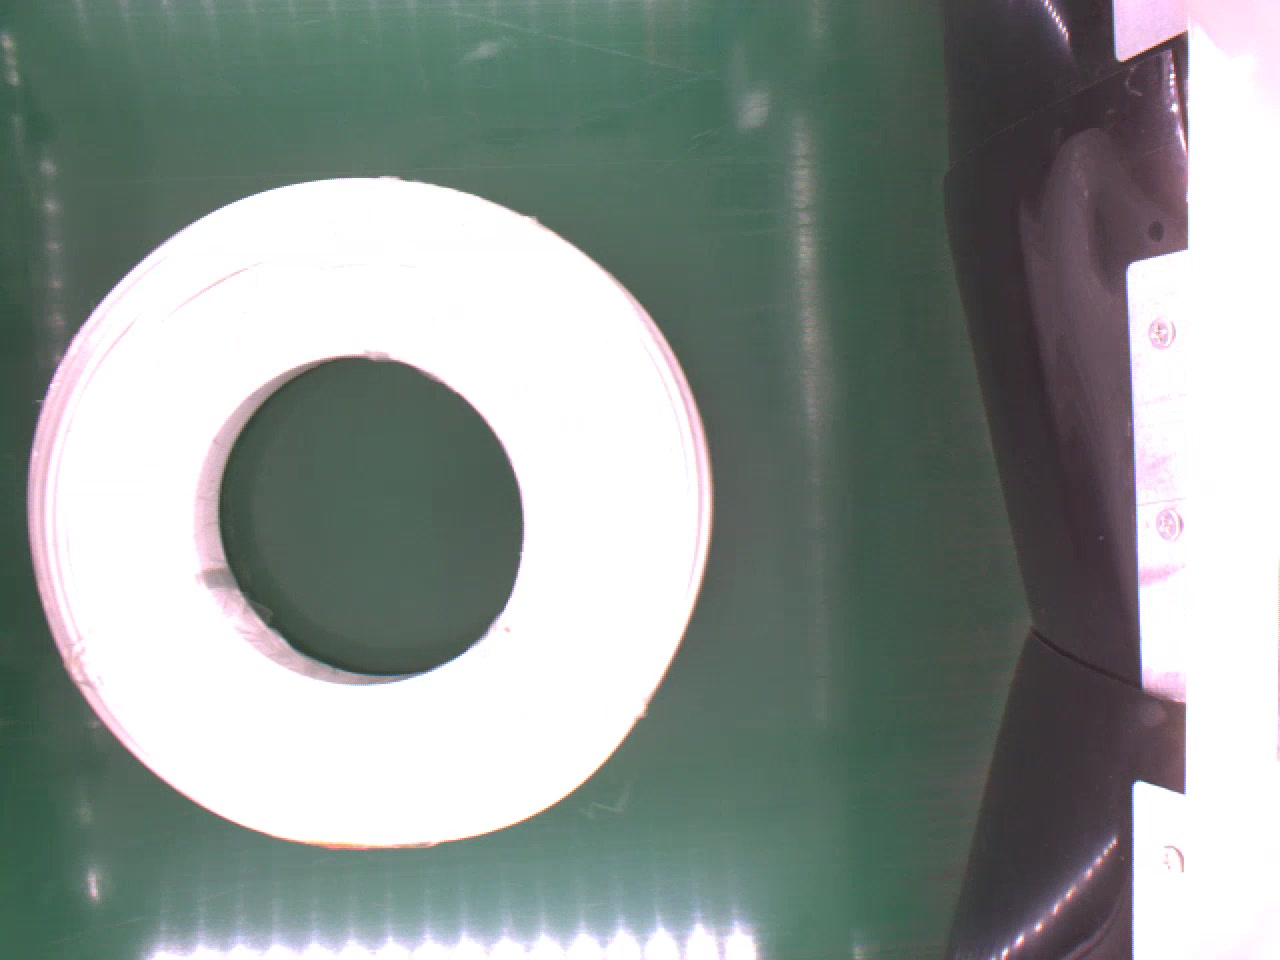white: (23, 166, 717, 854)
